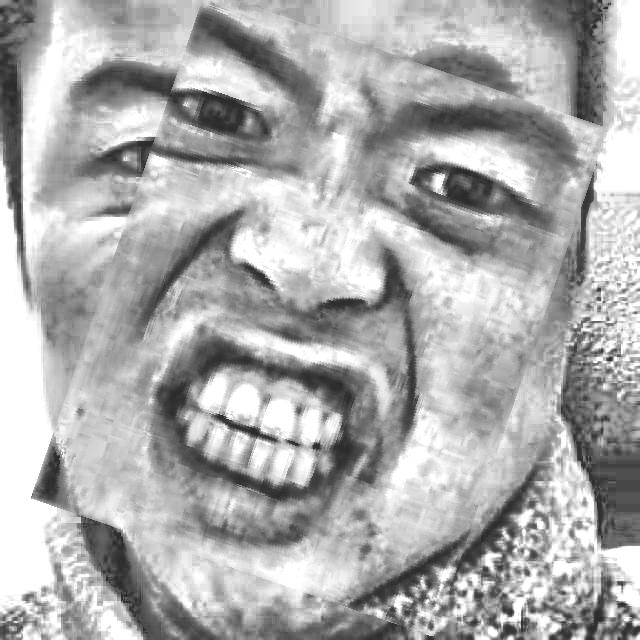angry: (69, 17, 571, 609)
